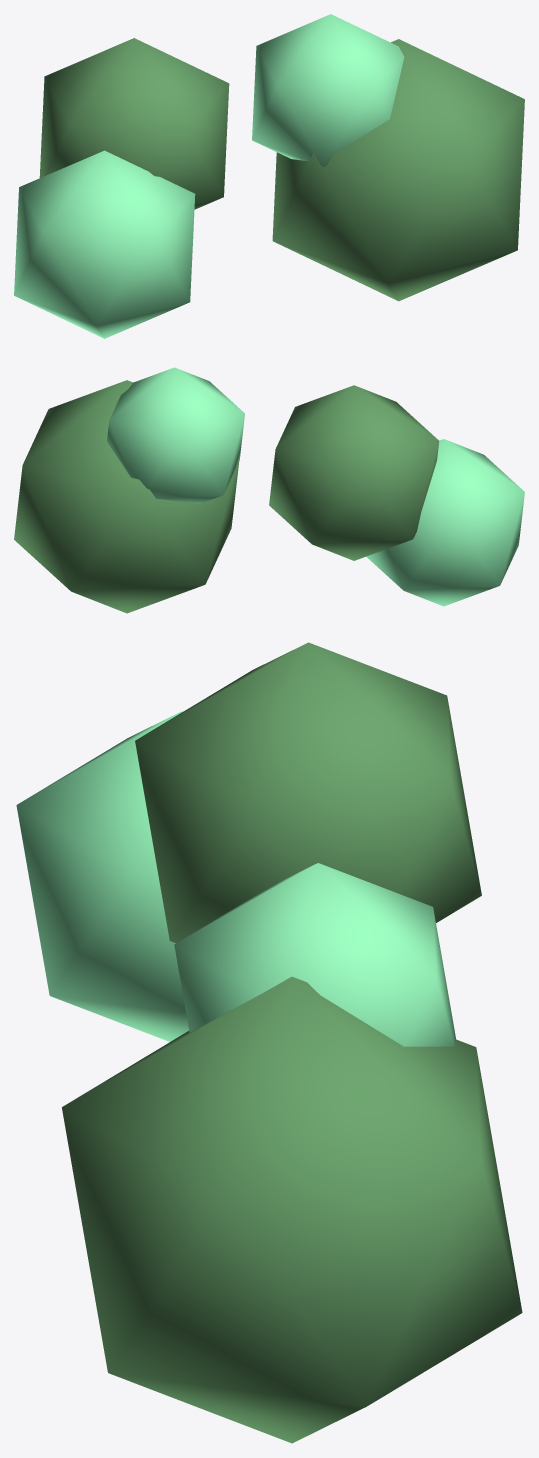
Rendered from treegreen.glb.
The picture shows the model from 3 angles, top to bottom: view 1: azimuth 30°, elevation 25°; view 2: azimuth 150°, elevation 25°; view 3: azimuth 270°, elevation 25°; orthographic projection. The views are drawn at different scales.
Parts seen in each view (by area): view 1: ทรงกลม Ico.003, ทรงกลม Ico, ทรงกลม Ico.001, ทรงกลม Ico.002; view 2: ทรงกลม Ico.003, ทรงกลม Ico.001, ทรงกลม Ico, ทรงกลม Ico.002; view 3: ทรงกลม Ico.003, ทรงกลม Ico.001, ทรงกลม Ico, ทรงกลม Ico.002.
Part boxes in pixels (x1,y1,x2,y2): ทรงกลม Ico.003: [272, 39, 524, 301]; ทรงกลม Ico: [14, 150, 195, 338]; ทรงกลม Ico.001: [39, 38, 229, 209]; ทรงกลม Ico.002: [252, 14, 404, 166]; ทรงกลม Ico.003: [14, 380, 239, 613]; ทรงกลม Ico.001: [269, 385, 439, 560]; ทรงกลม Ico: [366, 439, 524, 606]; ทรงกลม Ico.002: [107, 367, 244, 503]; ทรงกลม Ico.003: [62, 976, 522, 1443]; ทรงกลม Ico.001: [135, 642, 481, 942]; ทรงกลม Ico: [16, 711, 188, 1041]; ทรงกลม Ico.002: [174, 863, 455, 1046].
Size of the model in its own units: 5.8 by 3.52 by 2.81.
